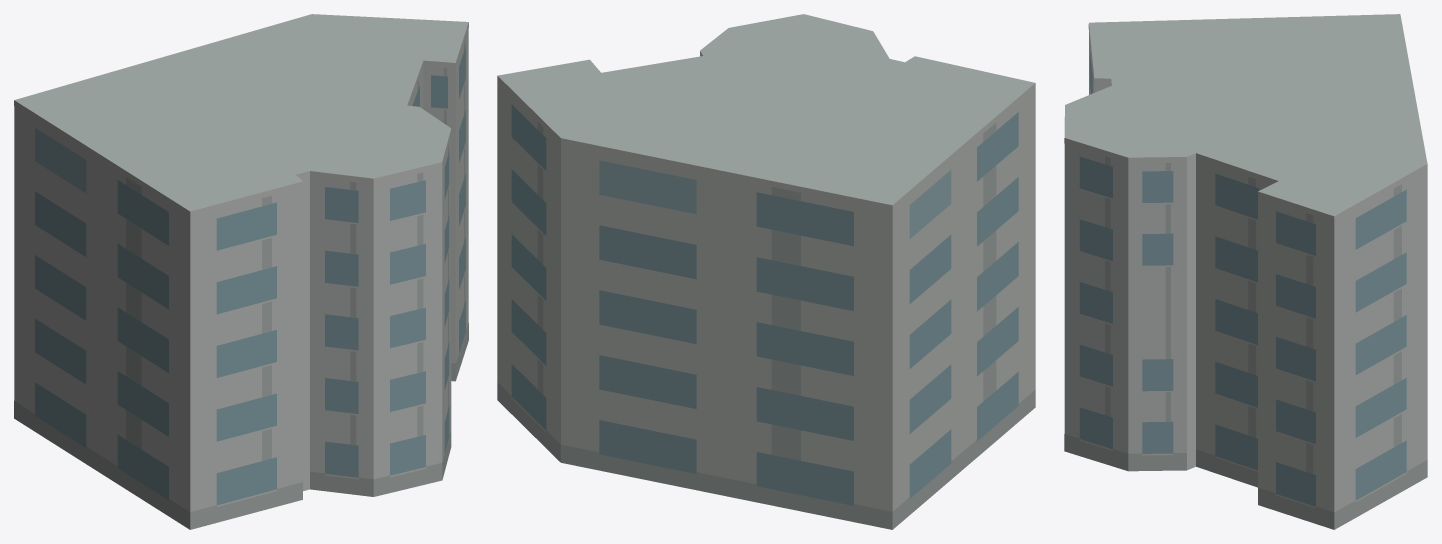
Rendered from survey-upis-32724285.glb.
3 views of the same model, side by side, from view 1: azimuth 30°, elevation 25°; view 2: azimuth 150°, elevation 25°; view 3: azimuth 270°, elevation 25° (orthographic). The views are drawn at different scales.
Visible parts, largest first — view 1: survey-upis-32724285.tmp; view 2: survey-upis-32724285.tmp; view 3: survey-upis-32724285.tmp.
Part boxes in pixels (x1,y1,x2,y2): survey-upis-32724285.tmp: (14, 14, 468, 529); survey-upis-32724285.tmp: (497, 14, 1035, 529); survey-upis-32724285.tmp: (1064, 14, 1427, 529).
Size of the model in its own units: 18.28 by 13.2 by 13.87.
